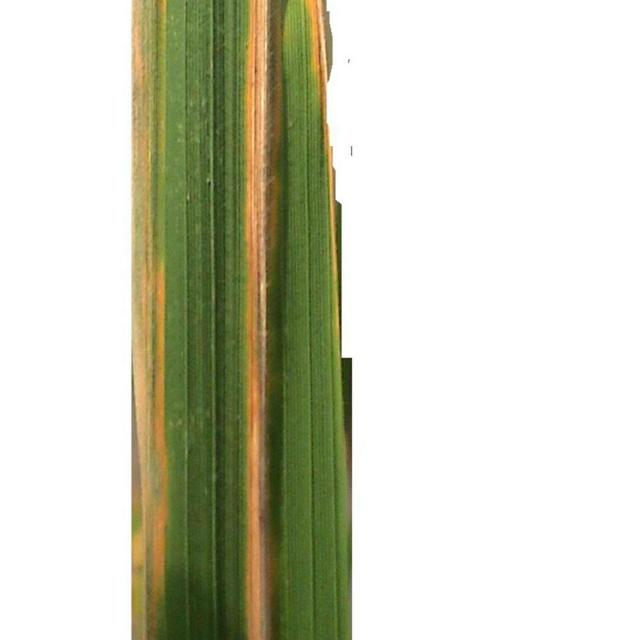Bacterial leaf blight: (242, 0, 343, 640), (130, 0, 167, 640)
